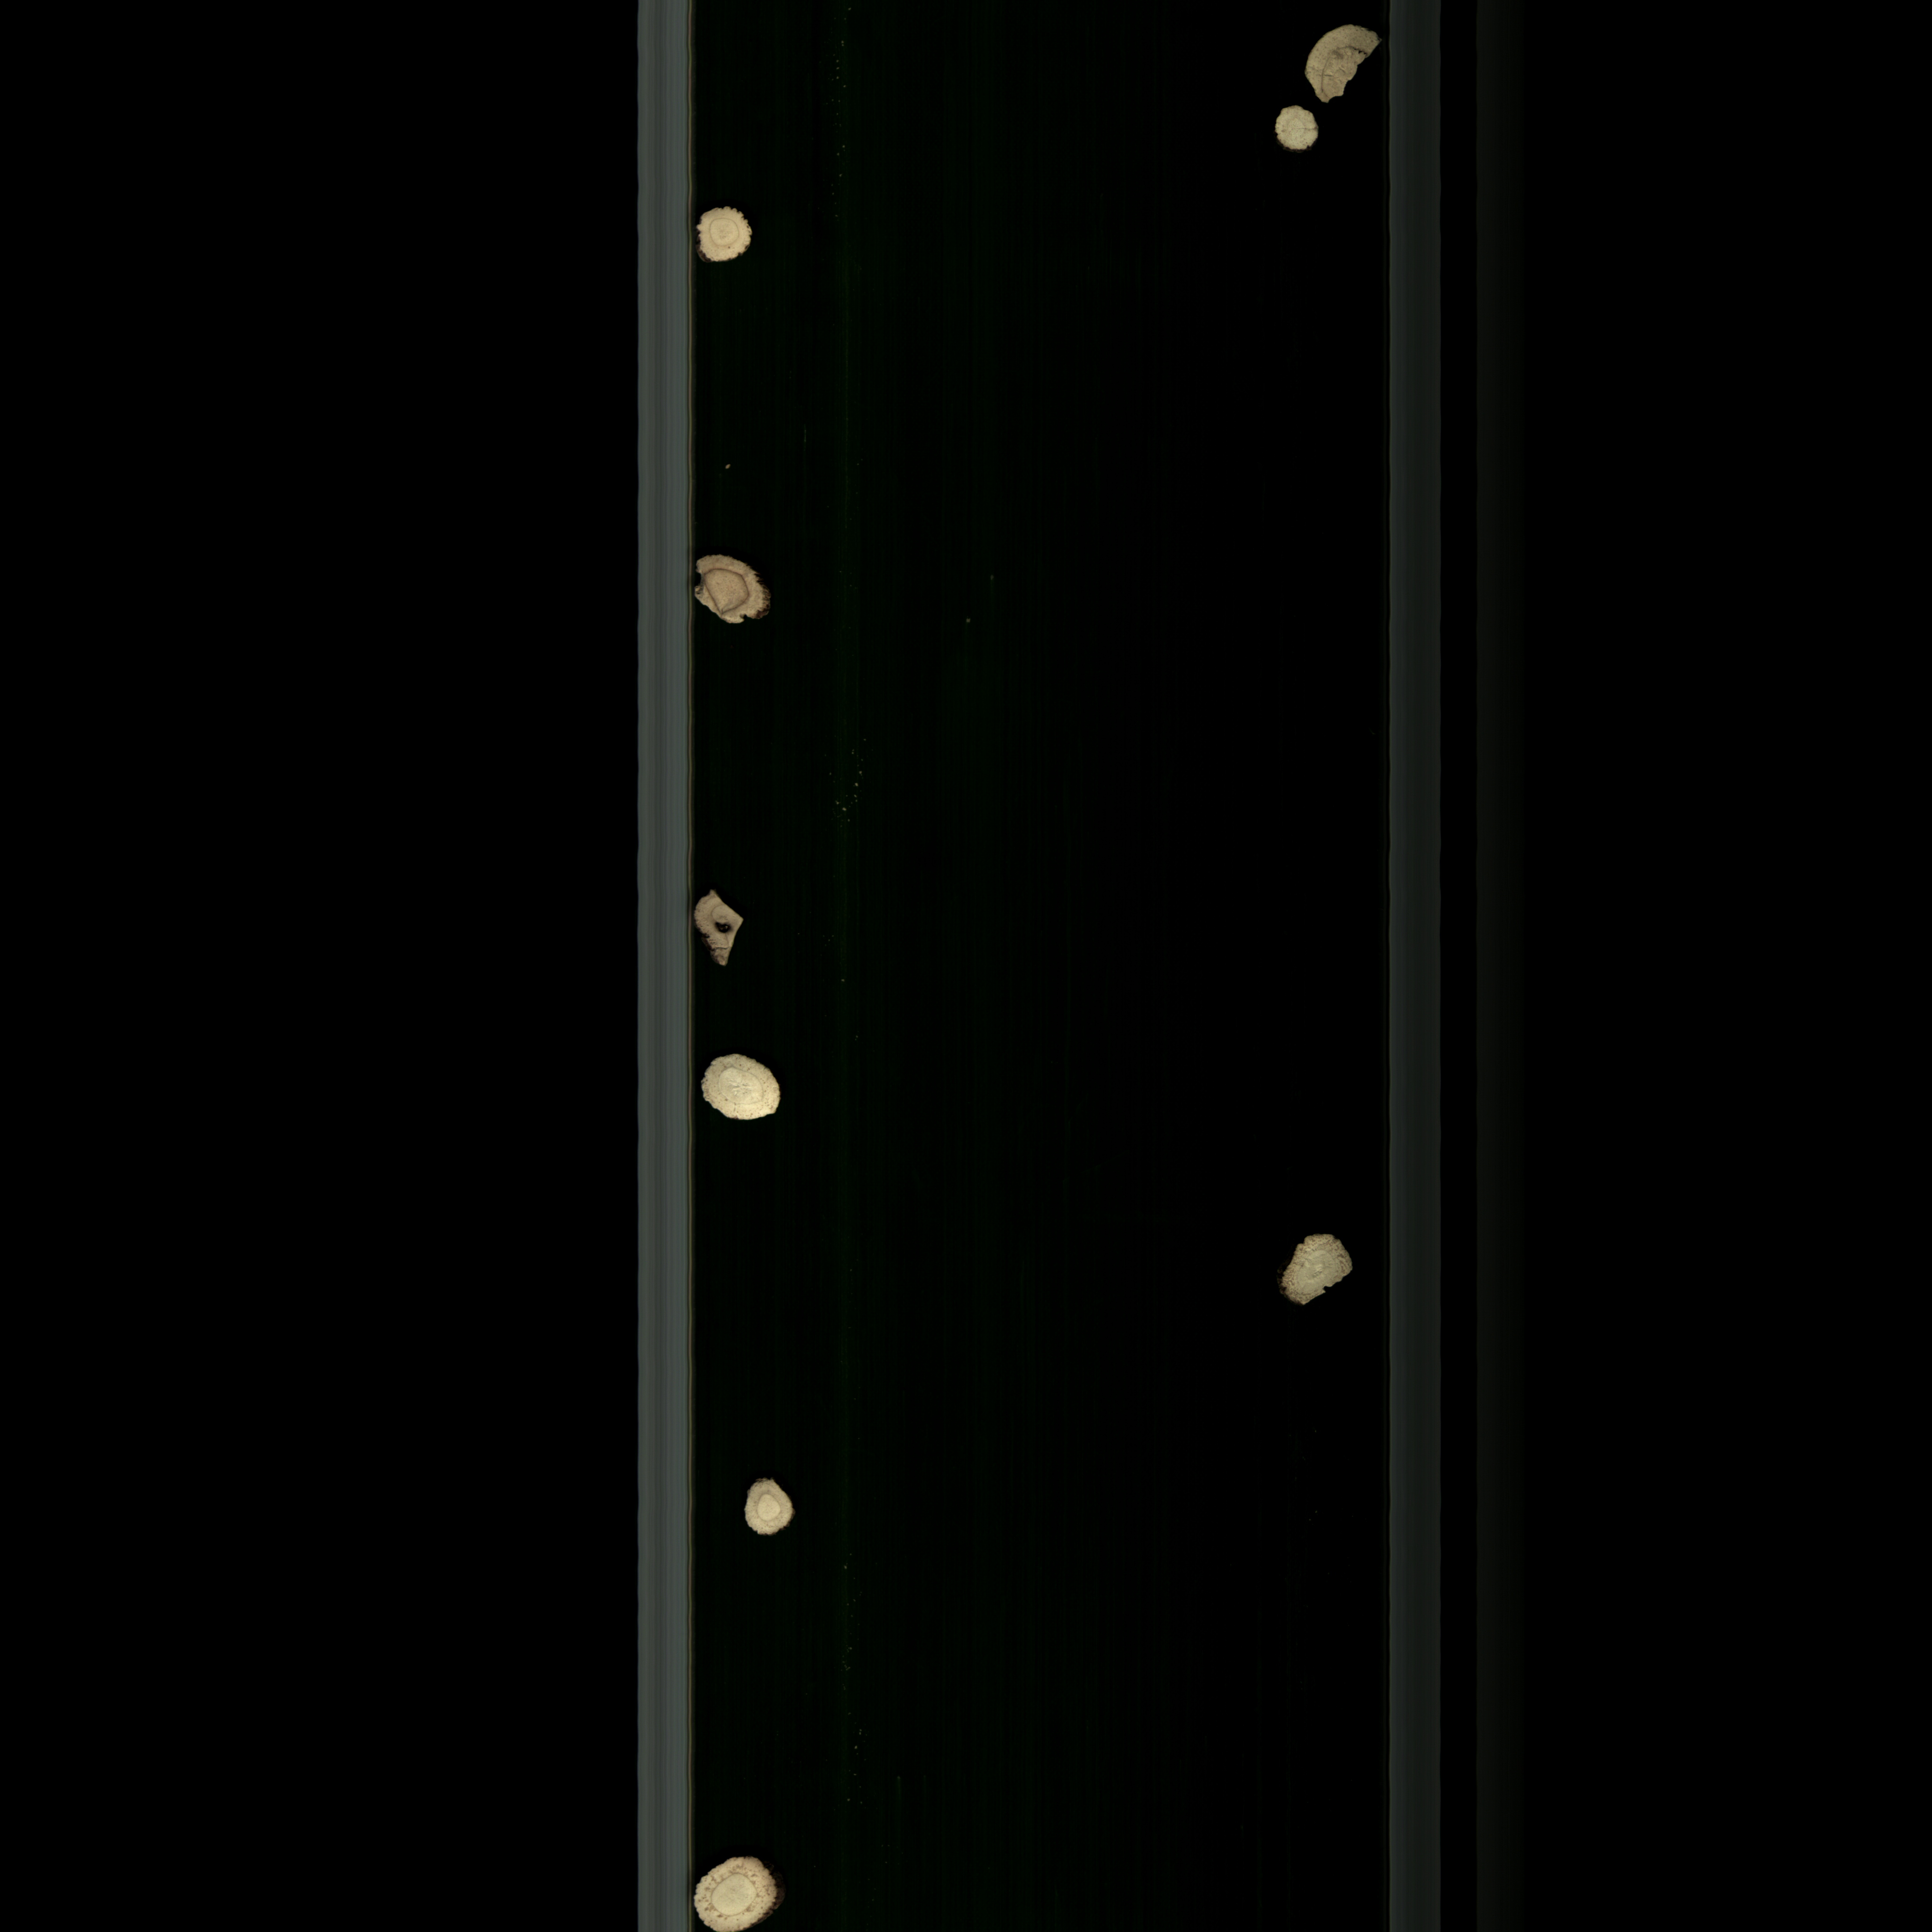debris: (695, 883, 768, 971), (1304, 21, 1380, 99)
distortion: (1277, 1221, 1361, 1311), (692, 200, 766, 272)
moldy: (692, 545, 784, 640)
